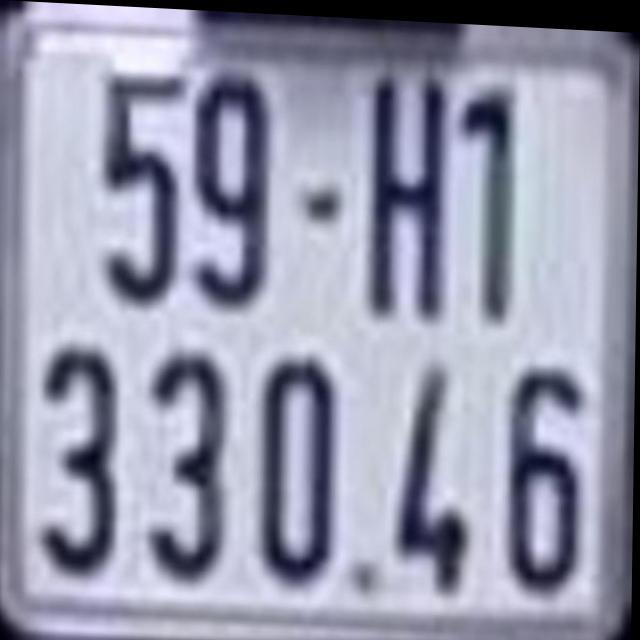0: (255, 344, 338, 579)
1: (458, 69, 532, 333)
3: (42, 334, 131, 581), (146, 339, 227, 573)
4: (394, 358, 472, 592)
5: (98, 64, 184, 303)
6: (489, 356, 592, 591)
9: (188, 58, 271, 315)
H: (359, 64, 455, 339)
